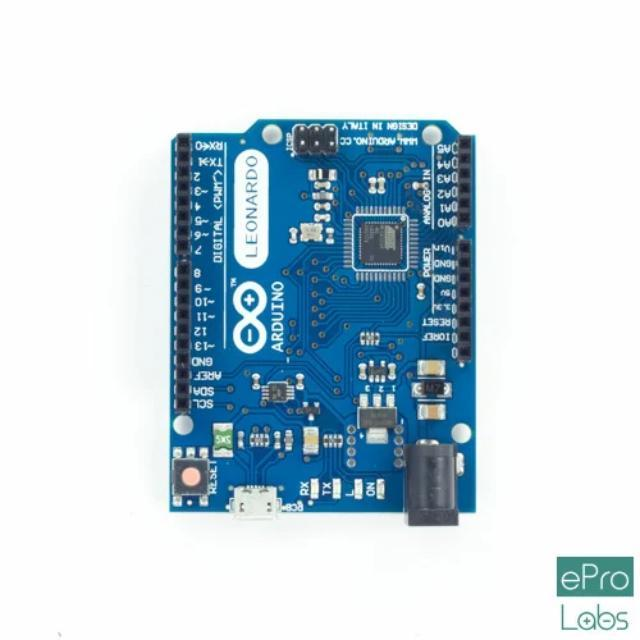Arduino-leonardo: (172, 120, 475, 525)
